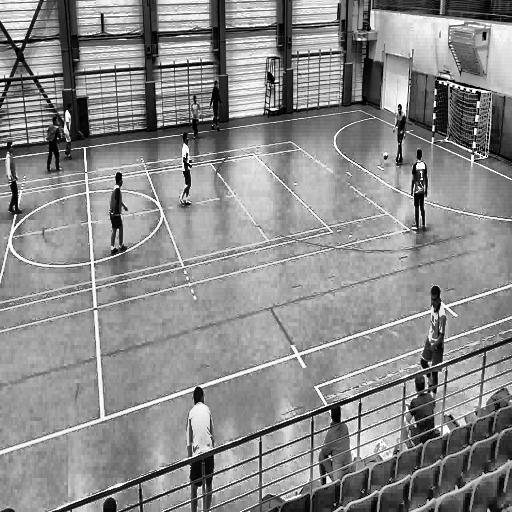ball: (382, 148, 390, 163)
player: (184, 381, 216, 512), (420, 286, 446, 410), (108, 171, 131, 257), (410, 148, 430, 233), (4, 140, 24, 216), (180, 132, 195, 210), (45, 116, 64, 176), (208, 82, 225, 138), (393, 102, 406, 167), (64, 100, 75, 162), (189, 94, 202, 144)
